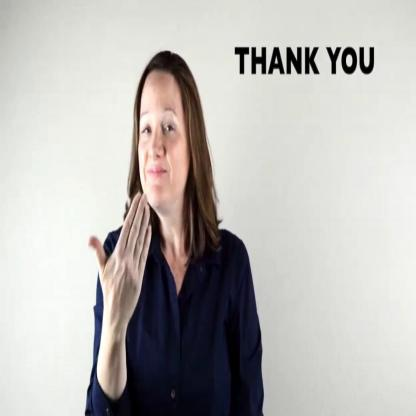ThankYou: (72, 44, 223, 327)
